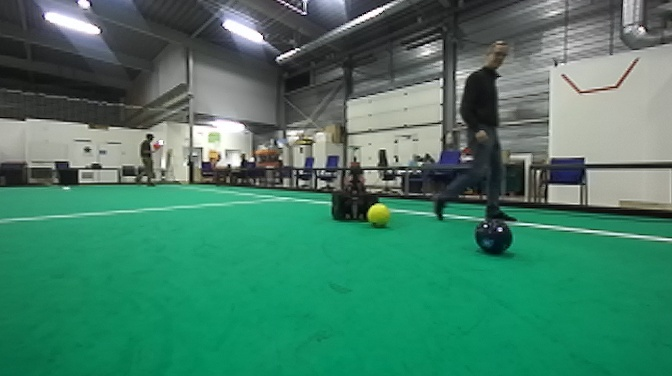ball: (473, 214, 514, 258), (364, 199, 396, 231)
human: (431, 38, 519, 226)
robot: (329, 141, 381, 226)
